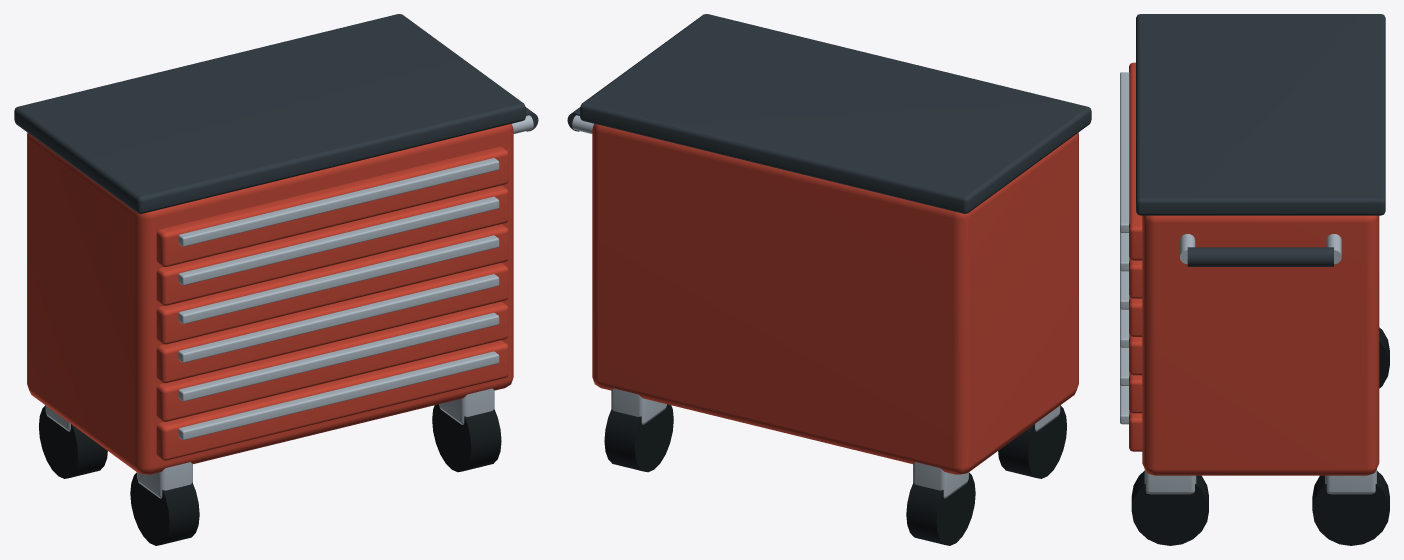
The model's file is 02_takim_dolabi.glb.
3 renders of one model, left to right at view 1: azimuth 30°, elevation 25°; view 2: azimuth 150°, elevation 25°; view 3: azimuth 270°, elevation 25°, orthographic.
Parts seen in each view (by area): view 1: 02_takim_dolabi__frame, 02_takim_dolabi__drawer_06, 02_takim_dolabi__drawer_04, 02_takim_dolabi__drawer_01, 02_takim_dolabi__drawer_02, 02_takim_dolabi__drawer_05, 02_takim_dolabi__drawer_03; view 2: 02_takim_dolabi__frame; view 3: 02_takim_dolabi__frame, 02_takim_dolabi__drawer_06, 02_takim_dolabi__drawer_01, 02_takim_dolabi__drawer_02, 02_takim_dolabi__drawer_03, 02_takim_dolabi__drawer_04, 02_takim_dolabi__drawer_05.
Boxes of the visible parts, x1,y1,x2,y2 form: 02_takim_dolabi__frame: (14, 14, 538, 545); 02_takim_dolabi__drawer_06: (156, 146, 508, 266); 02_takim_dolabi__drawer_04: (156, 224, 508, 344); 02_takim_dolabi__drawer_01: (156, 340, 508, 460); 02_takim_dolabi__drawer_02: (156, 301, 508, 421); 02_takim_dolabi__drawer_05: (156, 185, 508, 305); 02_takim_dolabi__drawer_03: (156, 263, 508, 383); 02_takim_dolabi__frame: (567, 14, 1091, 545); 02_takim_dolabi__frame: (1131, 14, 1389, 545); 02_takim_dolabi__drawer_06: (1120, 62, 1142, 260); 02_takim_dolabi__drawer_01: (1120, 385, 1142, 451); 02_takim_dolabi__drawer_02: (1120, 346, 1142, 413); 02_takim_dolabi__drawer_03: (1120, 308, 1142, 375); 02_takim_dolabi__drawer_04: (1120, 270, 1142, 336); 02_takim_dolabi__drawer_05: (1120, 232, 1142, 298).
Bounding box in the file's own units: 1.13 × 0.9225 × 0.627.
